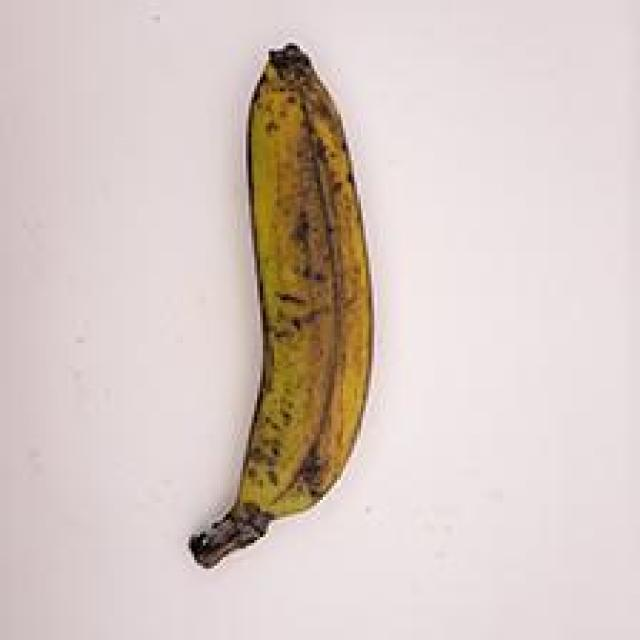Overripe: (117, 21, 416, 579)
